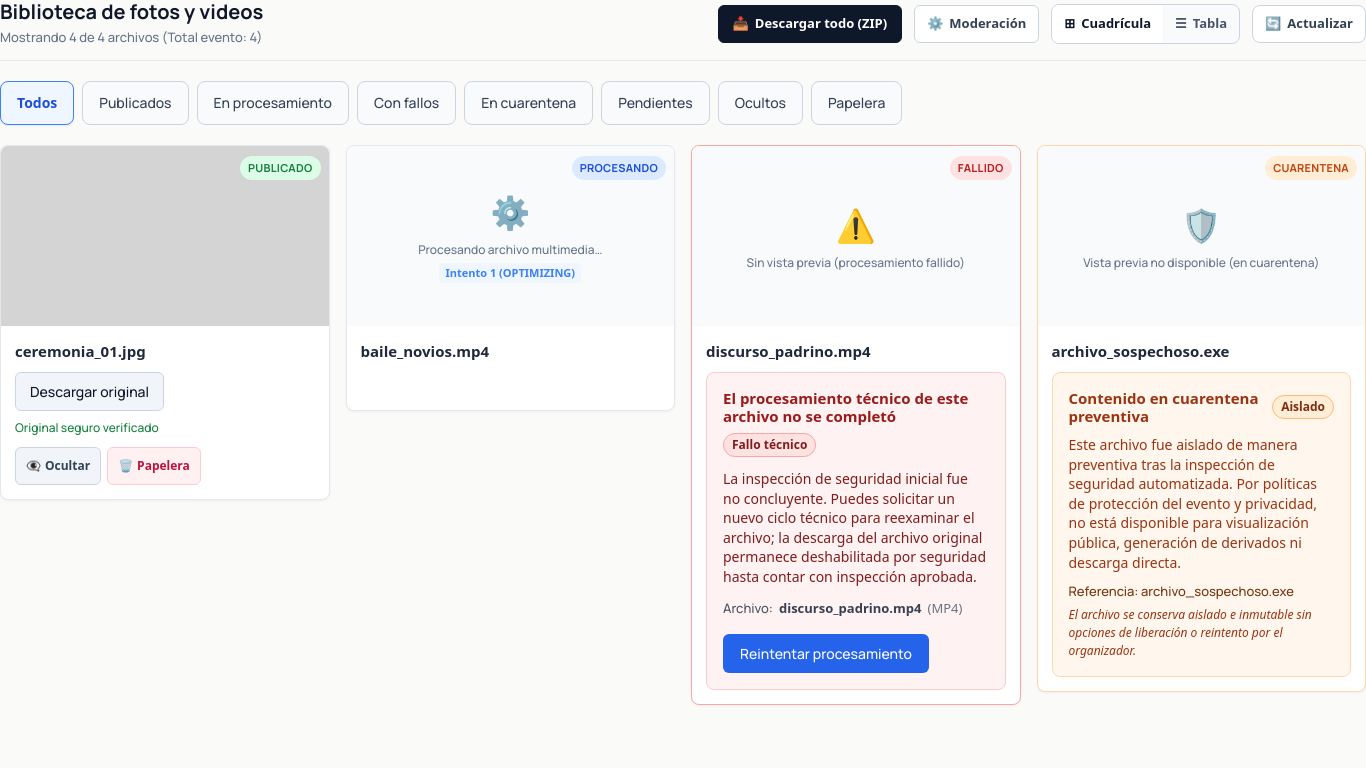
OrganizerMediaLibraryComponent & Media Integration (EL-TK-100) › Recuperación individual y exportación (EL-TK-132) › abre el diálogo de solicitud de exportación al presionar Descargar todo
Click the button with class "btn-download-all": (810, 24) [718,5,902,43]
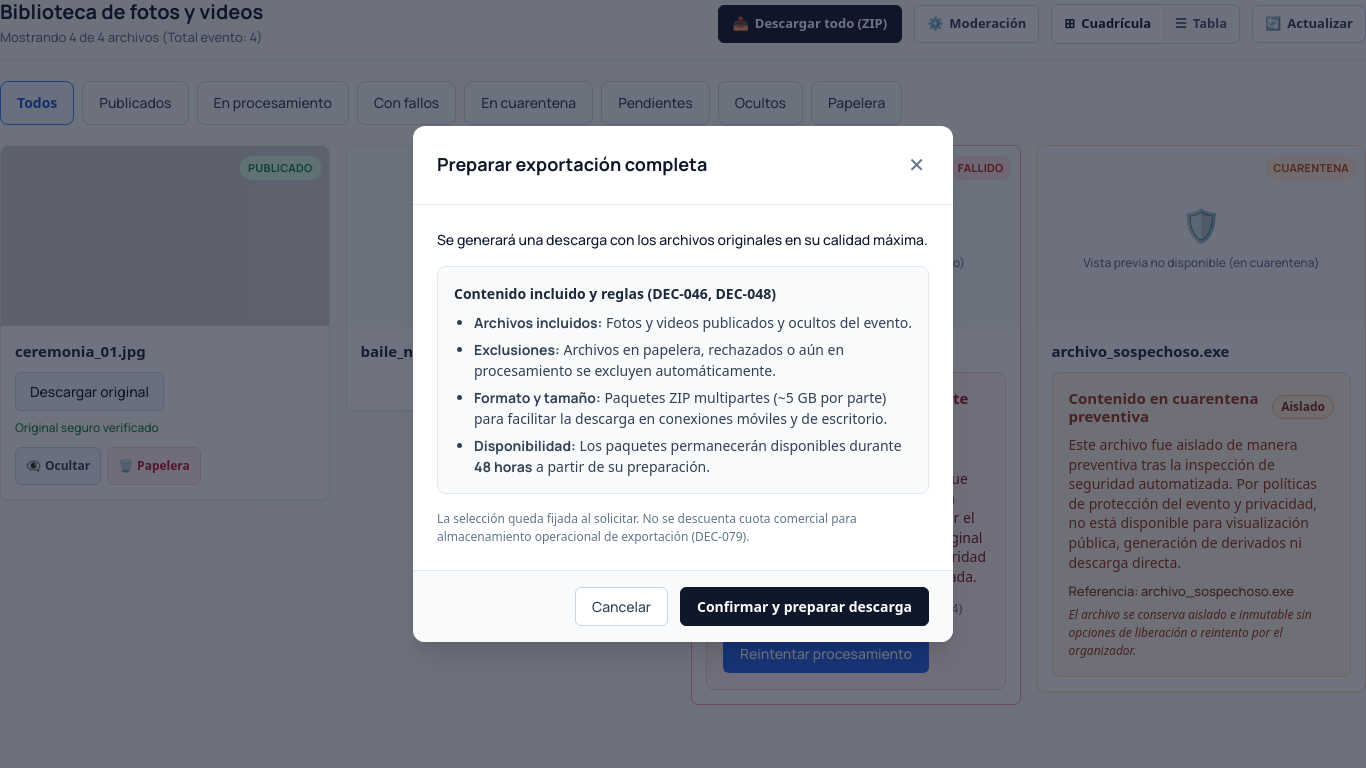
Expected: the dialog with class "export-dialog-card" is shown, [413,126,953,642]
Expected: the dialog with class "export-dialog-card" shows "archivos originales", [437,230,928,249]
Expected: the dialog with class "export-dialog-card" shows "48 horas", [474,457,532,476]
